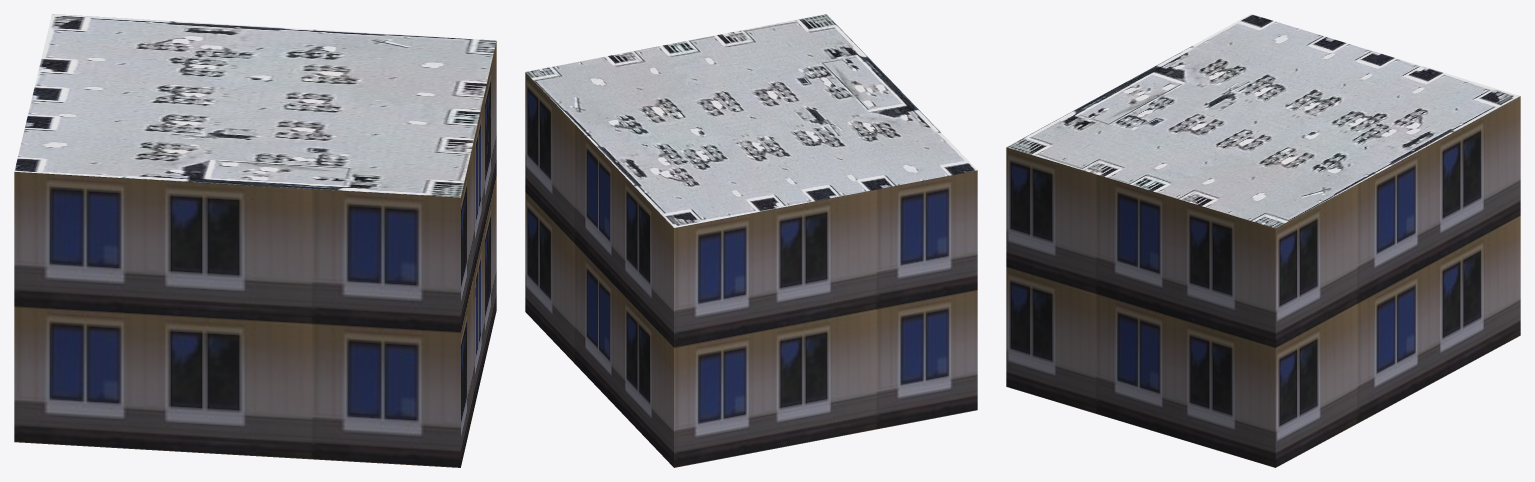
Rendered from ResTex__1974.fbx.
The picture shows the model from 3 angles, left to right: view 1: azimuth 30°, elevation 25°; view 2: azimuth 150°, elevation 25°; view 3: azimuth 270°, elevation 25°; orthographic projection. The views are drawn at different scales.
Visible parts, largest first — view 1: CityEngineMaterial_5_m, CityEngineMaterial_m; view 2: CityEngineMaterial_5_m, CityEngineMaterial_m; view 3: CityEngineMaterial_5_m, CityEngineMaterial_m.
Boxes of the visible parts, x1=… form: CityEngineMaterial_5_m: x1=14, y1=41, x2=496, y2=467; CityEngineMaterial_m: x1=14, y1=14, x2=496, y2=197; CityEngineMaterial_5_m: x1=525, y1=72, x2=977, y2=467; CityEngineMaterial_m: x1=525, y1=14, x2=977, y2=227; CityEngineMaterial_5_m: x1=1006, y1=96, x2=1520, y2=467; CityEngineMaterial_m: x1=1007, y1=14, x2=1520, y2=228.
Bounding box in the file's own units: 11.52 × 6 × 11.68.
Materials: 2 (2 with a texture image).
